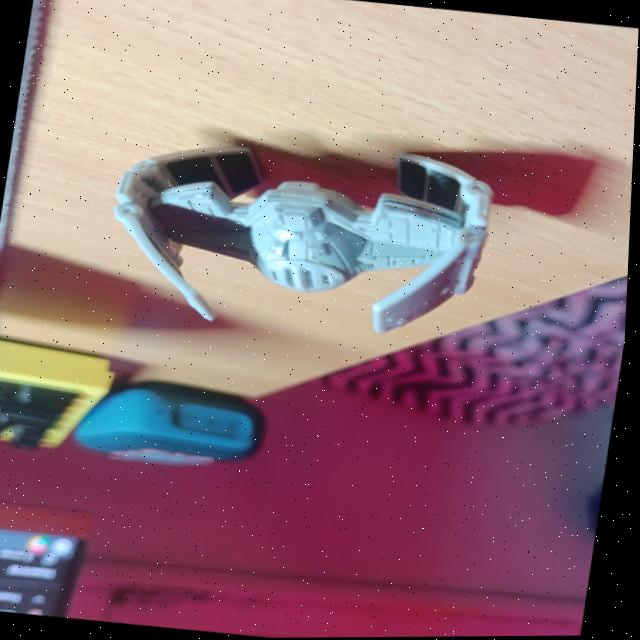tie fighter: (116, 145, 493, 332)
